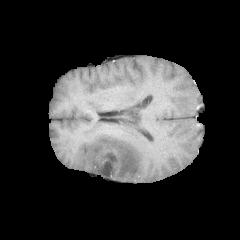glioma: (80, 134, 143, 181)
